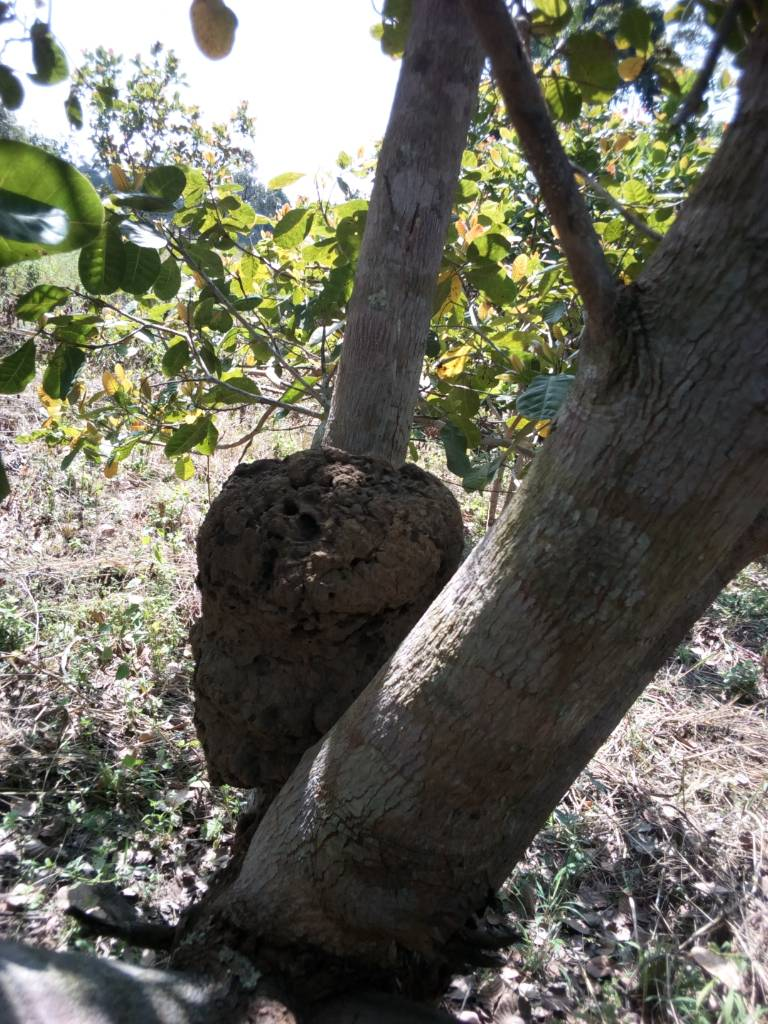Termites: (196, 455, 450, 777)
